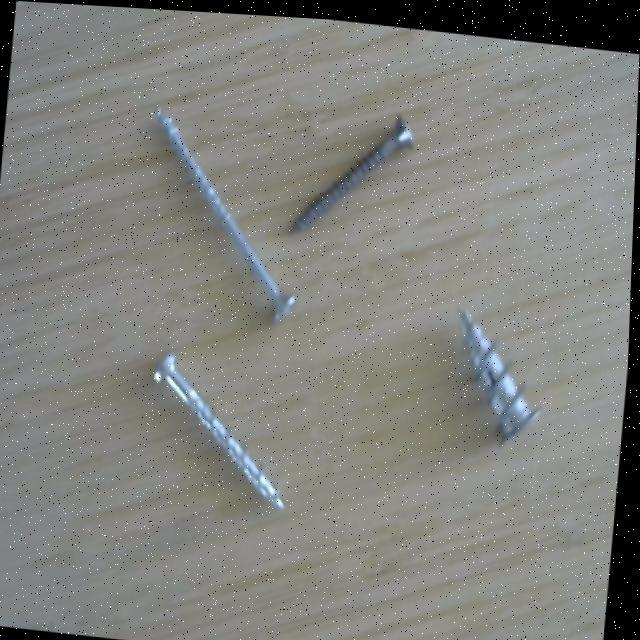Black screw: (290, 94, 422, 244)
Long screw: (134, 96, 317, 327)
Medium screw: (141, 337, 306, 514)
Short screw: (445, 295, 557, 452)
